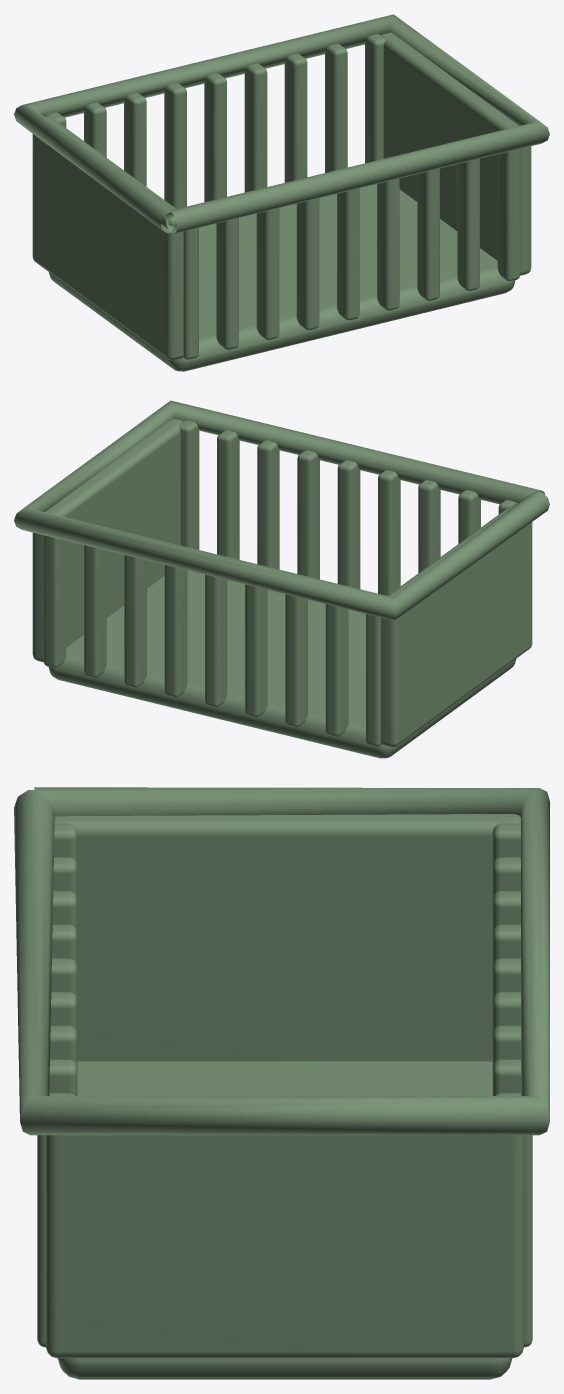
Rendered from SM_EG_ShoppingBasket_c2405a9dca.fbx.
3 renders of one model, top to bottom at view 1: azimuth 30°, elevation 25°; view 2: azimuth 150°, elevation 25°; view 3: azimuth 270°, elevation 25°, orthographic. The views are drawn at different scales.
Parts seen in each view (by area): view 1: SM_EG_ShoppingBasket_c2405a9dca; view 2: SM_EG_ShoppingBasket_c2405a9dca; view 3: SM_EG_ShoppingBasket_c2405a9dca.
Boxes of the visible parts, x1,y1,x2,y2 form: SM_EG_ShoppingBasket_c2405a9dca: (14,14,549,371); SM_EG_ShoppingBasket_c2405a9dca: (14,400,549,758); SM_EG_ShoppingBasket_c2405a9dca: (14,787,549,1379).
Size of what is drawn, in the model's own units: 67.07 by 47.07 by 28.96.
